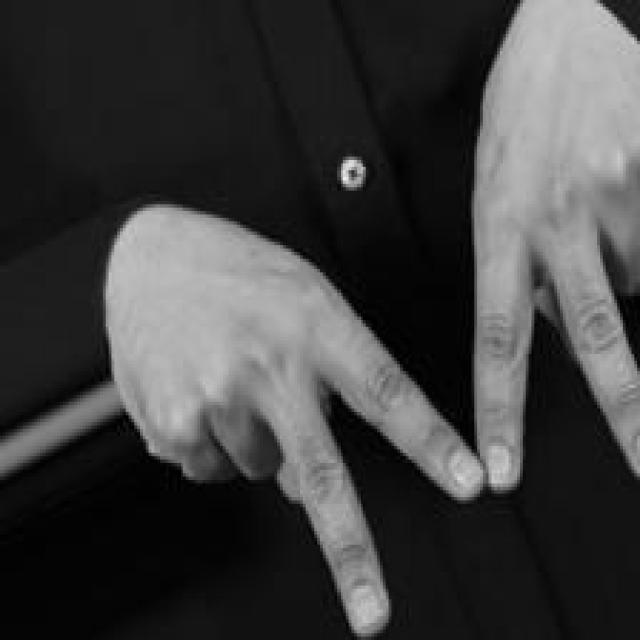M: (108, 75, 640, 640)
